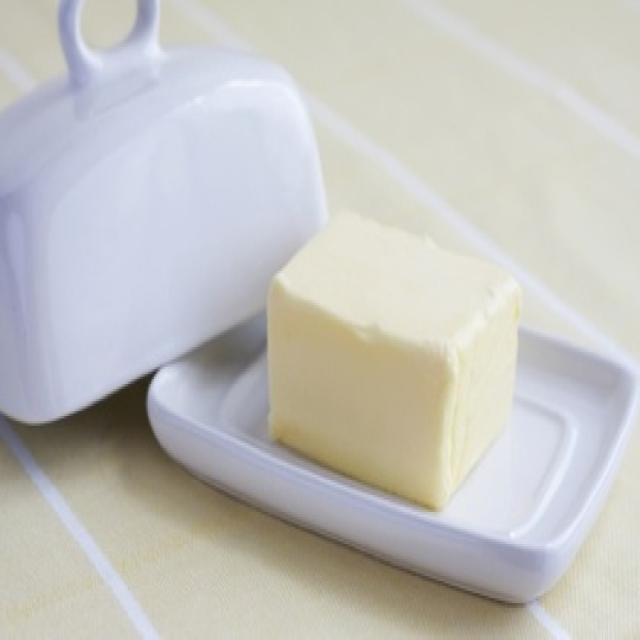Butter: (262, 206, 515, 499)
